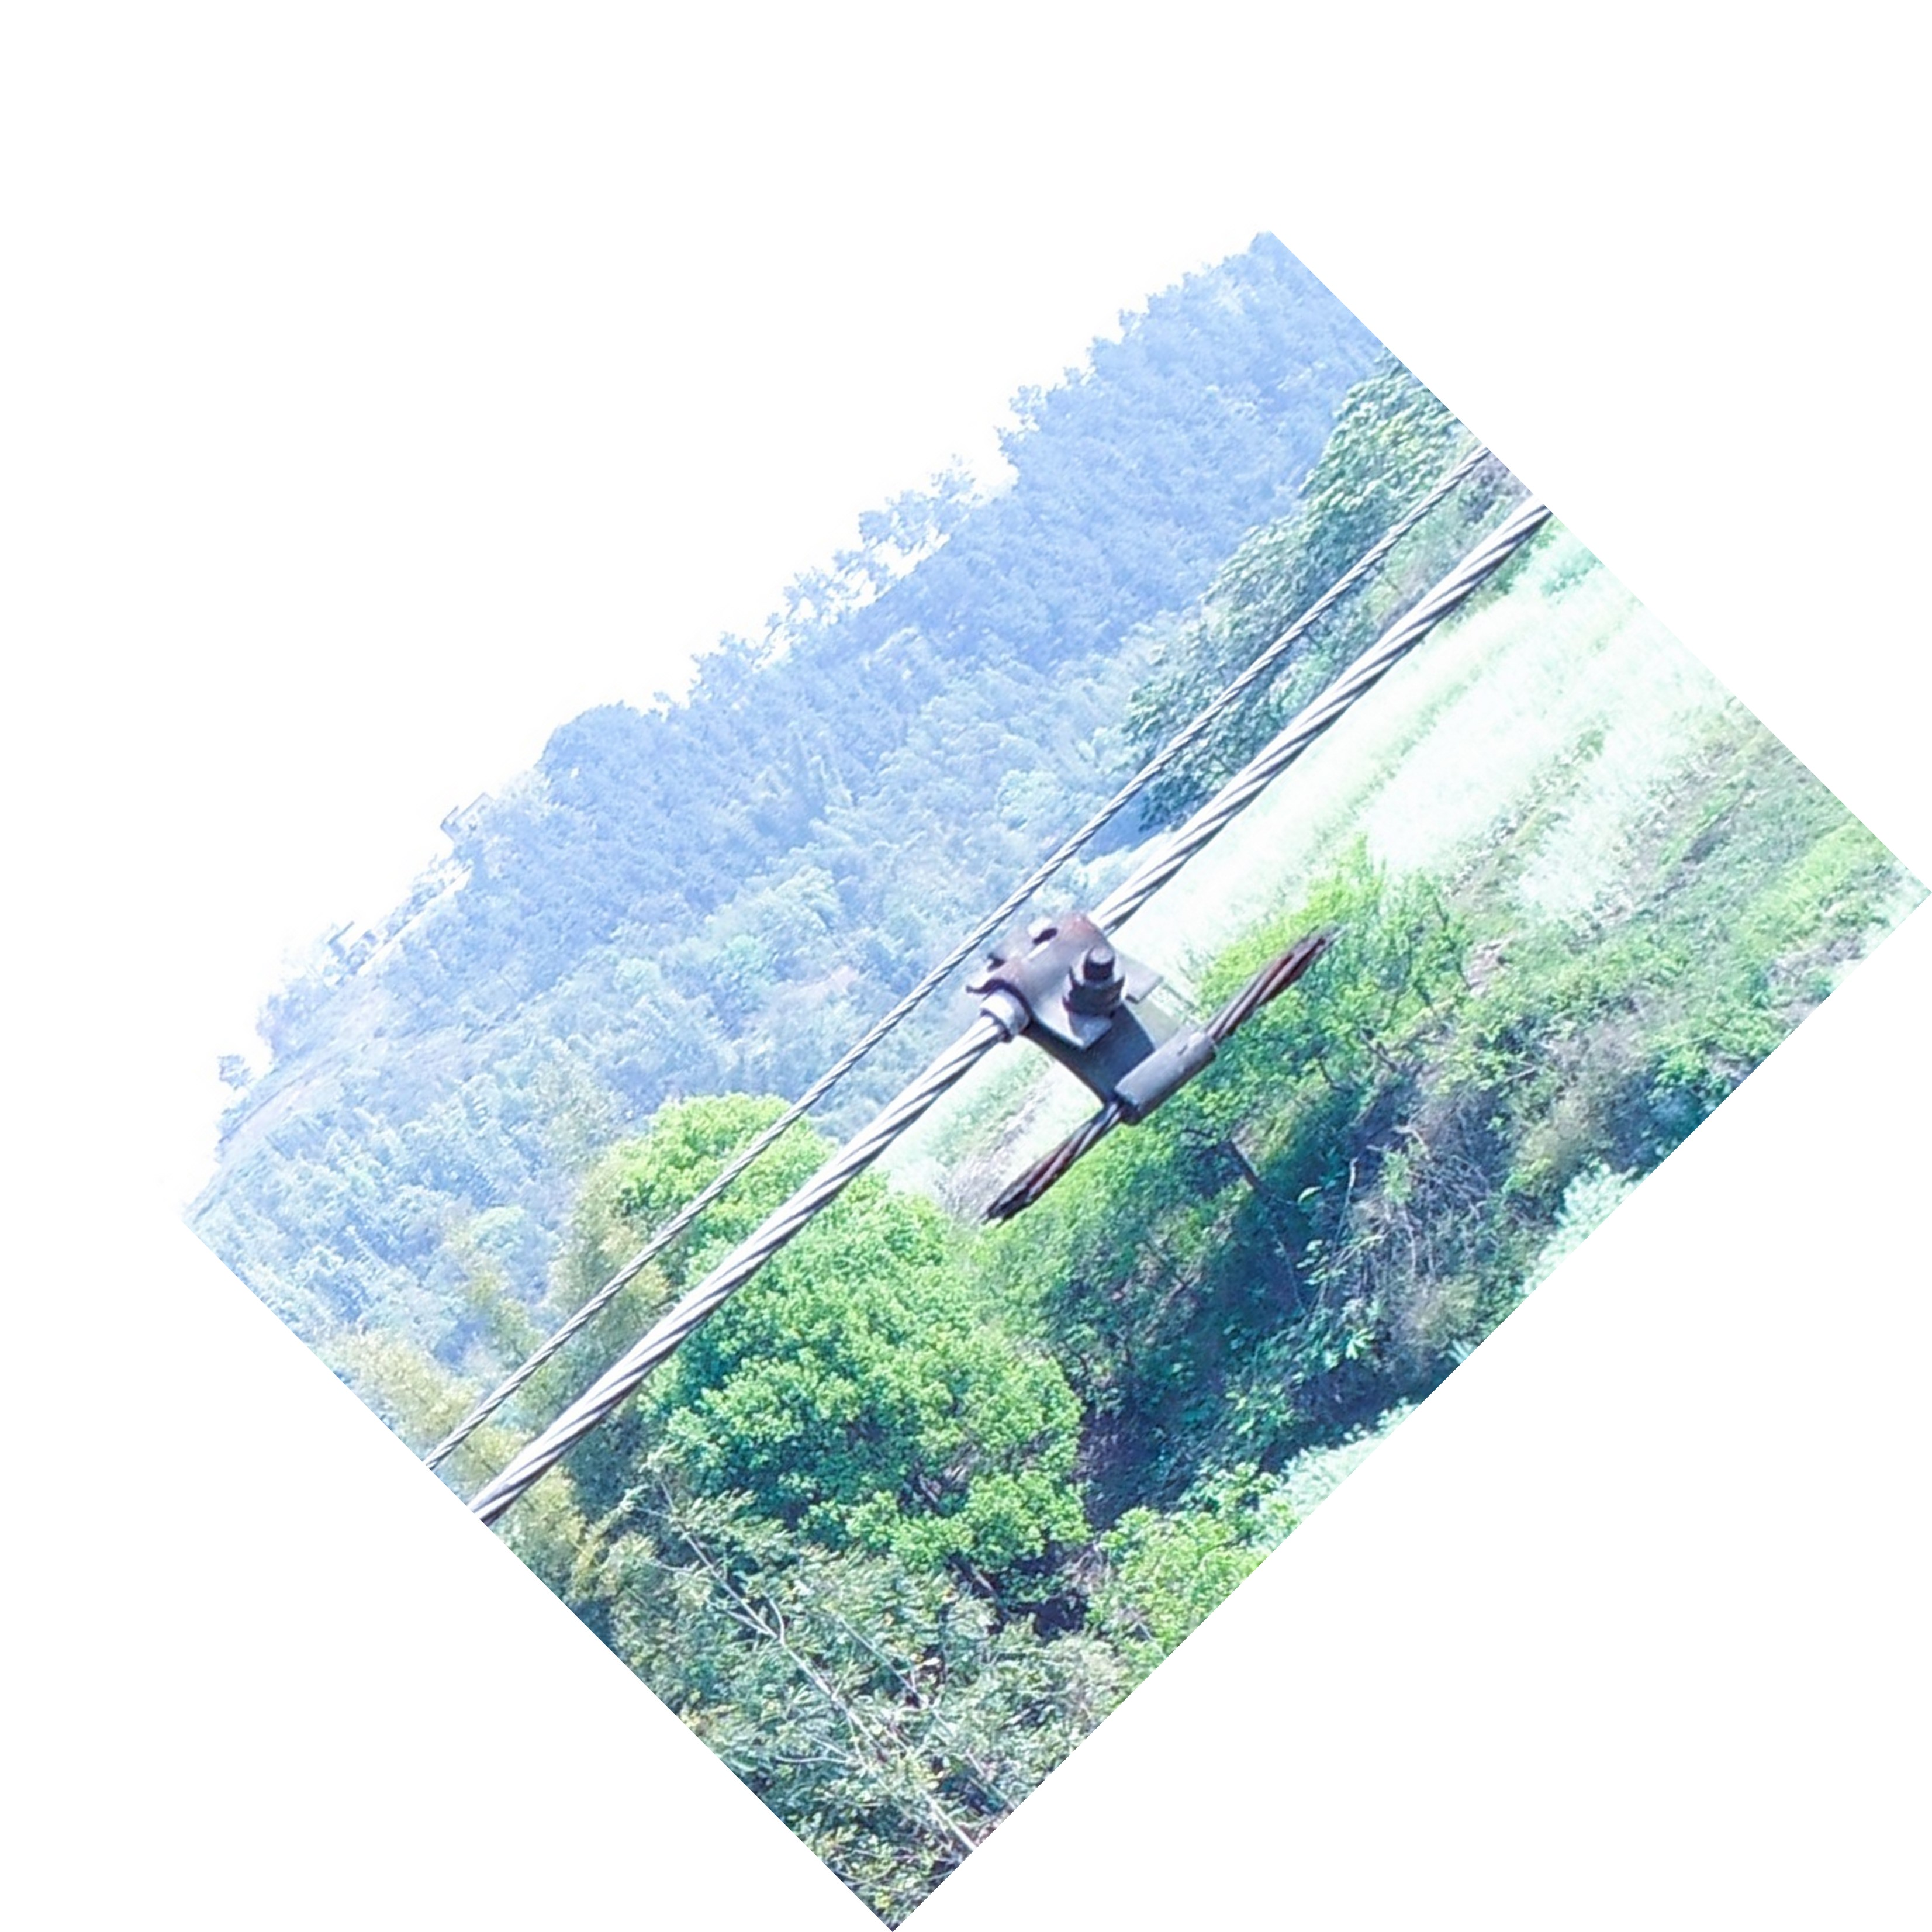Damage of shockproof hammer: (908, 865, 1353, 1249)
